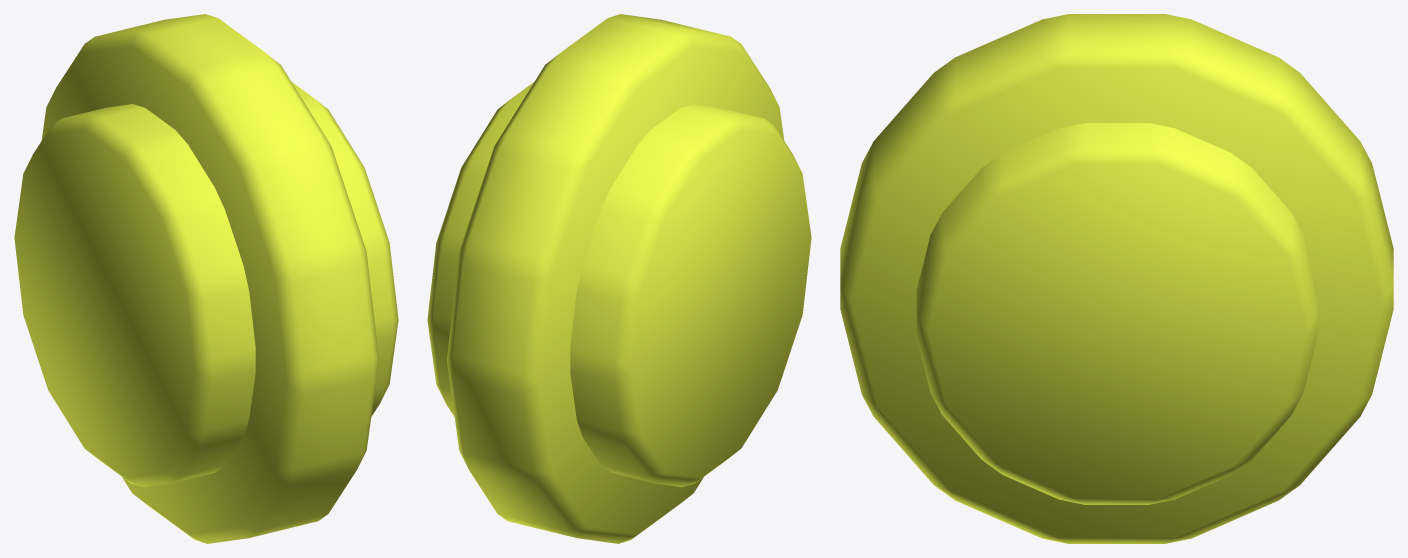
File: coin.001.glb
3 renders of one model, left to right at view 1: azimuth 30°, elevation 25°; view 2: azimuth 150°, elevation 25°; view 3: azimuth 270°, elevation 25°, orthographic. The views are drawn at different scales.
Parts seen in each view (by area): view 1: coin.001; view 2: coin.001; view 3: coin.001.
Part boxes in pixels (bbox=[...]): coin.001: bbox=[14, 14, 398, 543]; coin.001: bbox=[427, 14, 811, 543]; coin.001: bbox=[840, 14, 1393, 543].
Size of the model in its own units: 0.8826 by 1.95 by 1.98.
